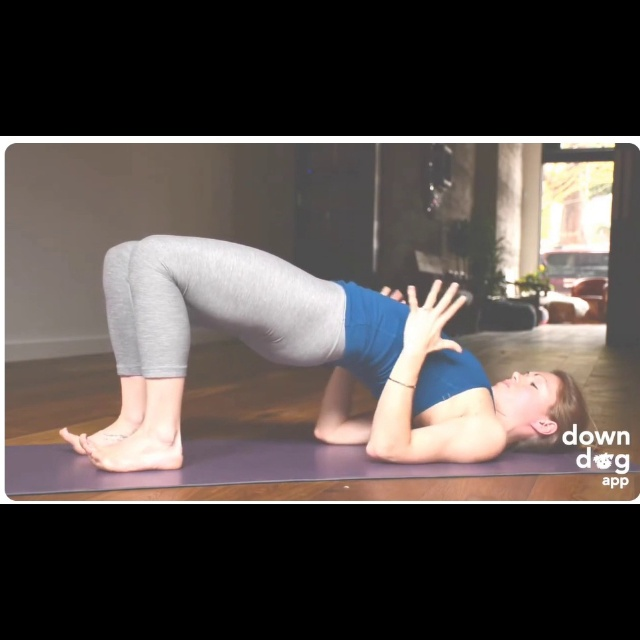Bridge_Pose: (42, 224, 610, 486)
